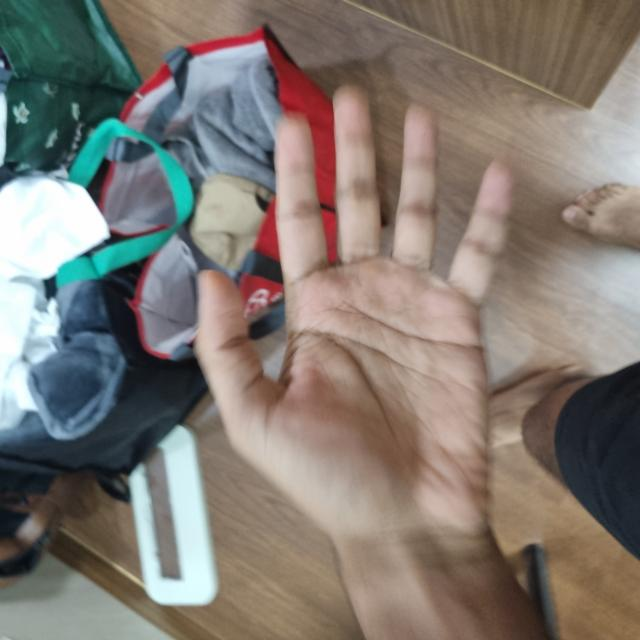Paper: (87, 198, 375, 494)
